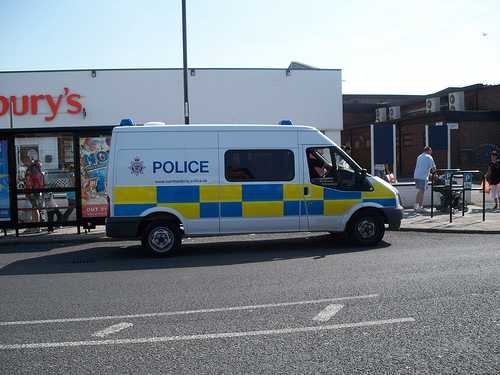Police Van: (87, 116, 410, 254)
